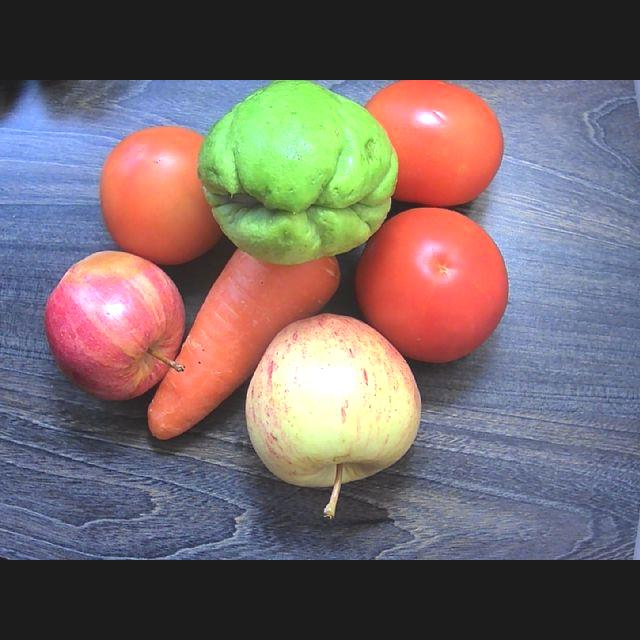chayote: (199, 80, 397, 263)
manzana: (248, 314, 421, 517), (45, 251, 186, 399)
tomate: (356, 208, 508, 362), (366, 80, 504, 206), (101, 127, 222, 264)
zanahoria: (148, 249, 340, 439)
